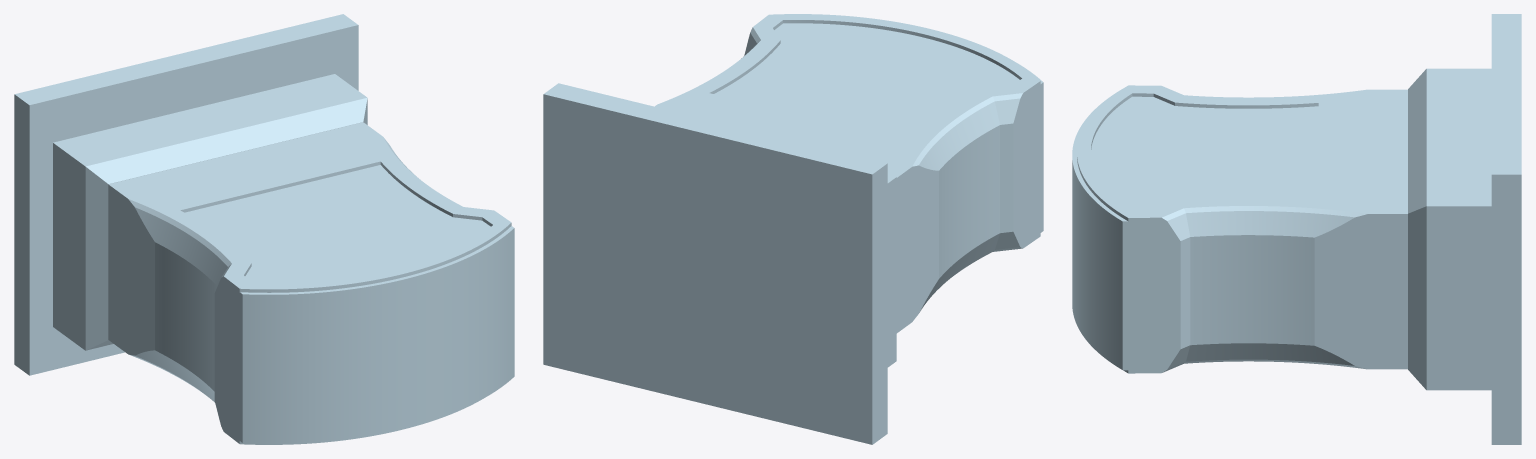
3 views of the same model, side by side, from view 1: azimuth 30°, elevation 25°; view 2: azimuth 150°, elevation 25°; view 3: azimuth 270°, elevation 25° (orthographic).
Visible parts, largest first — view 1: PA-86-F_LOD0; view 2: PA-86-F_LOD0; view 3: PA-86-F_LOD0.
Boxes of the visible parts, x1=… form: PA-86-F_LOD0: x1=14, y1=14, x2=514, y2=444; PA-86-F_LOD0: x1=543, y1=14, x2=1043, y2=444; PA-86-F_LOD0: x1=1072, y1=14, x2=1521, y2=444.
Size of what is drawn, in the model's own units: 51.73 by 40.64 by 61.22.
